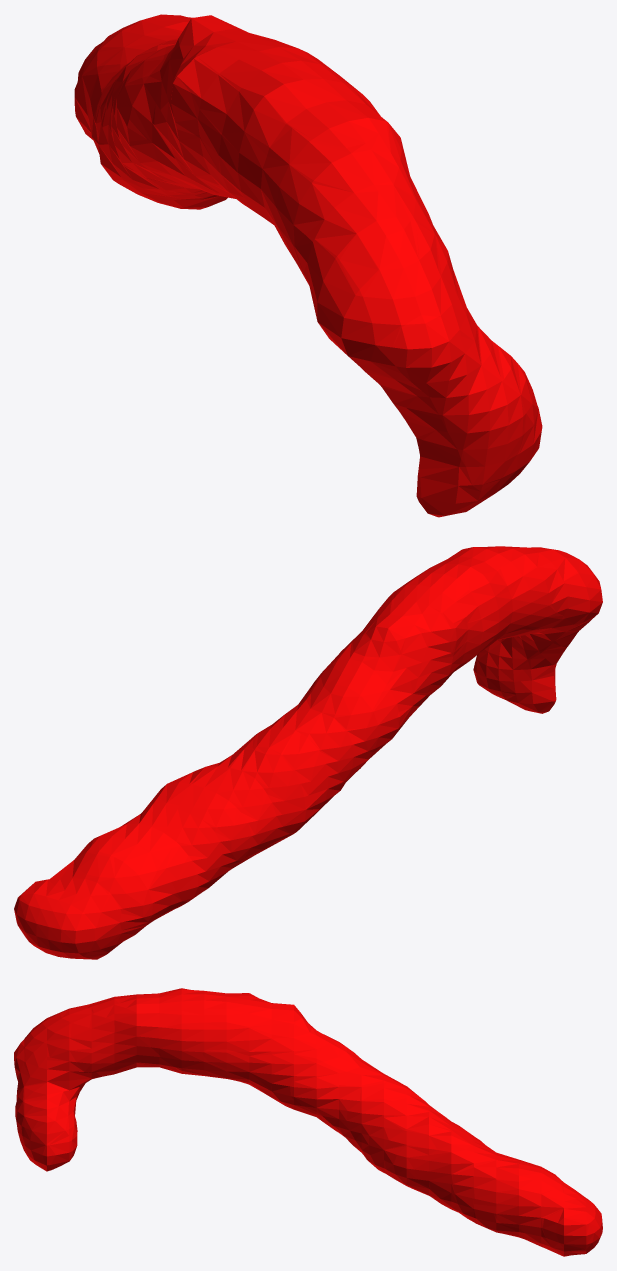
Rendered from slyX_coarse.dae.
3 renders of one model, top to bottom at view 1: azimuth 30°, elevation 25°; view 2: azimuth 150°, elevation 25°; view 3: azimuth 270°, elevation 25°, orthographic. The views are drawn at different scales.
Parts seen in each view (by area): view 1: slyX; view 2: slyX; view 3: slyX.
Part boxes in pixels (<box>): slyX: <box>74,14,542,517</box>; slyX: <box>14,546,602,959</box>; slyX: <box>14,988,602,1256</box>.
Size of the model in its own units: 38.87 by 37.17 by 97.33.
